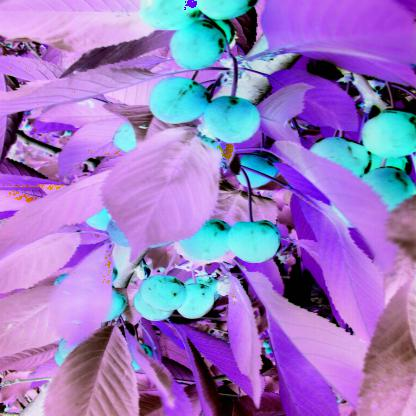cherry leaf: (177, 13, 367, 113), (167, 142, 350, 244), (221, 221, 328, 312), (95, 35, 178, 119), (303, 248, 399, 312)
